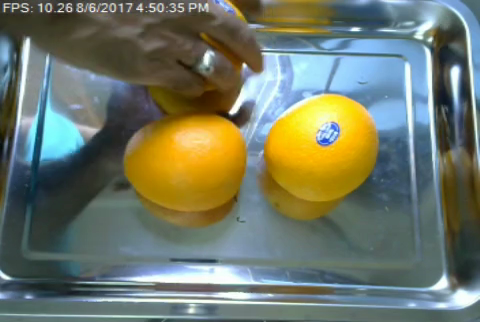Orange: (122, 112, 247, 211), (265, 93, 378, 201)
